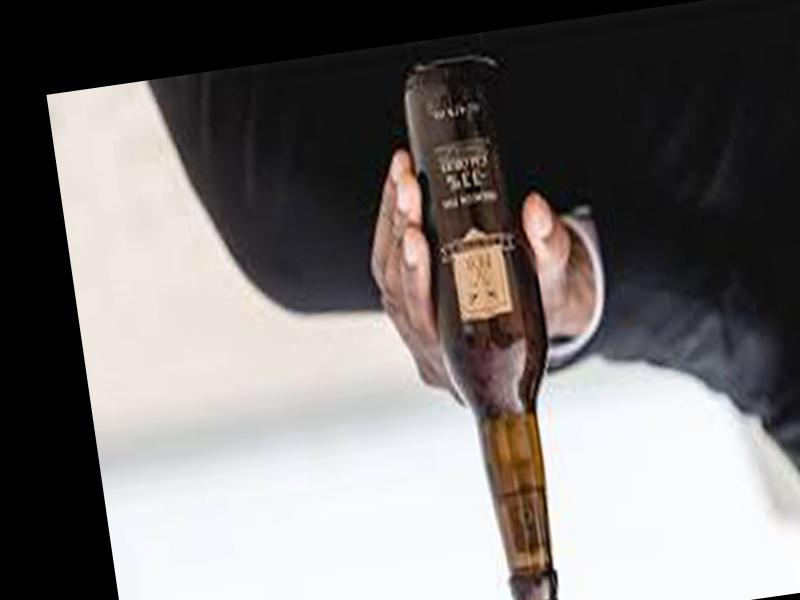Beer: (397, 50, 583, 600)
